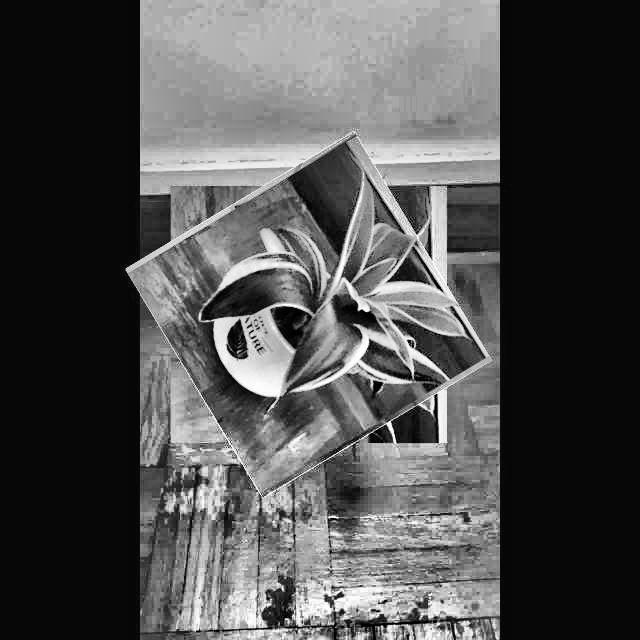plants: (150, 156, 467, 473)
